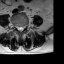CCS_normal: (19, 23, 22, 34)
LFS_normal: (24, 22, 26, 30)
LLS_normal: (22, 23, 24, 32)
RFS_normal: (15, 22, 17, 30)
RLS_normal: (17, 23, 19, 32)
